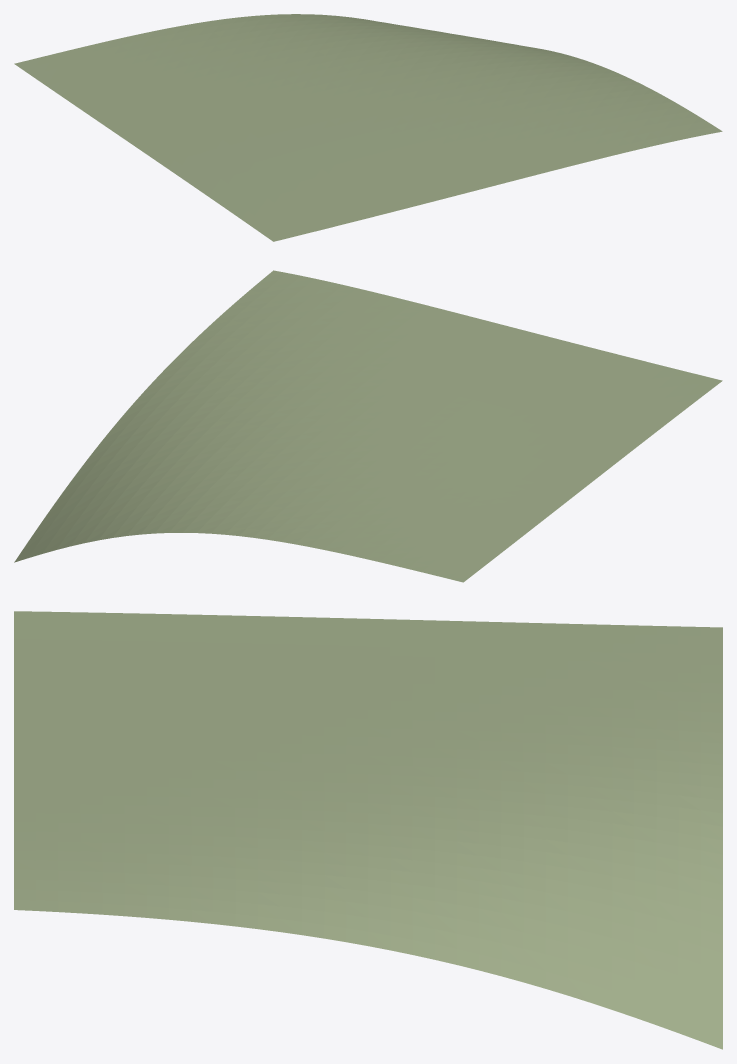
Rendered from expanse-13-0.glb.
3 views of the same model, one above another, from view 1: azimuth 30°, elevation 25°; view 2: azimuth 150°, elevation 25°; view 3: azimuth 270°, elevation 25° (orthographic). The views are drawn at different scales.
Parts seen in each view (by area): view 1: expanse-13-0; view 2: expanse-13-0; view 3: expanse-13-0.
Part boxes in pixels (left/top/right/bottom): expanse-13-0: left=14, top=14, right=722, bottom=241; expanse-13-0: left=14, top=270, right=722, bottom=582; expanse-13-0: left=14, top=611, right=722, bottom=1049.
Size of the model in its own units: 256 by 57.2 by 256.
